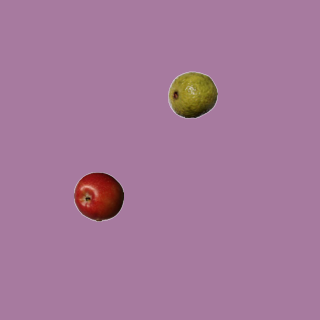Apple Braeburn: (73, 171, 123, 221)
Guava: (167, 69, 217, 119)
